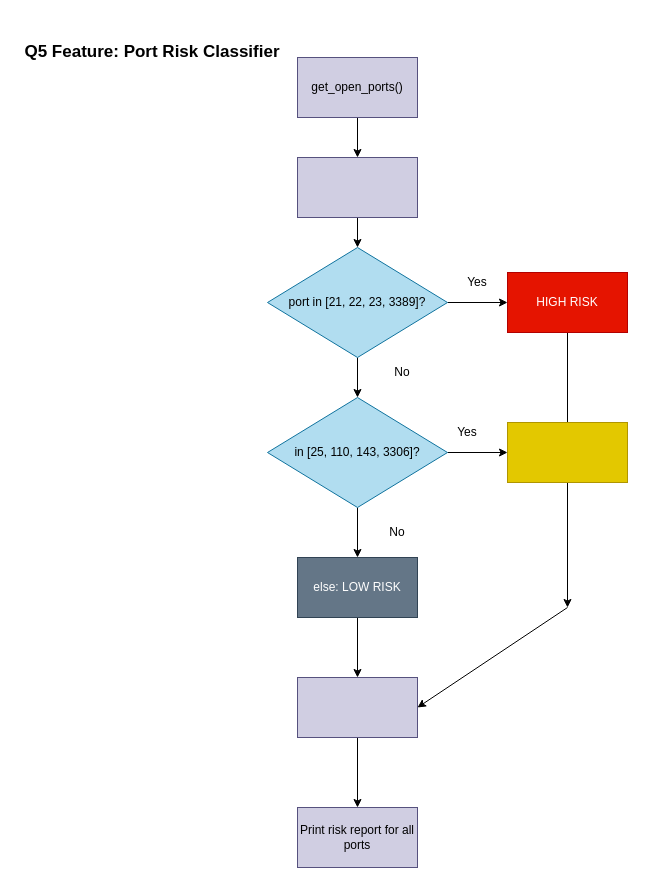
The diagram is 645 pixels wide and 885 high, and some of its shapes have lost their labels. The box of each missing label's shape, as (x1, y1, x2, y2) in pixels:
Append (port, service, risk_level) to list: (296, 676, 418, 738)
Loop through each open port: (296, 156, 418, 218)
MEDIUM RISK: (506, 422, 628, 482)
